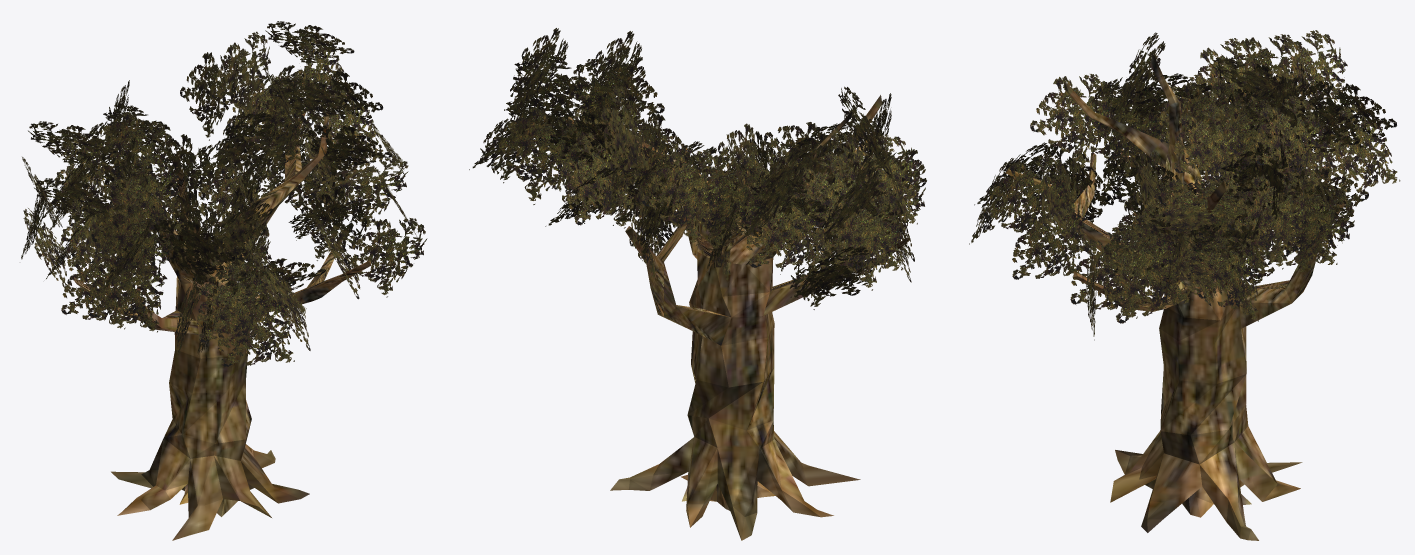
The model's file is dashu1.fbx.
3 renders of one model, left to right at view 1: azimuth 30°, elevation 25°; view 2: azimuth 150°, elevation 25°; view 3: azimuth 270°, elevation 25°, orthographic. The views are drawn at different scales.
Parts seen in each view (by area): view 1: dashu1; view 2: dashu1; view 3: dashu1.
Part boxes in pixels (left/top/right/bottom): dashu1: left=21, top=21, right=427, bottom=540; dashu1: left=469, top=28, right=926, bottom=540; dashu1: left=969, top=30, right=1400, bottom=540.
Size of the model in its own units: 2147 by 2283 by 1879.
